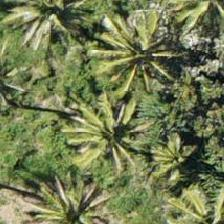coconut_tree: (65, 85, 155, 175), (89, 6, 179, 96), (25, 168, 115, 223), (0, 0, 86, 51), (149, 0, 223, 46)
